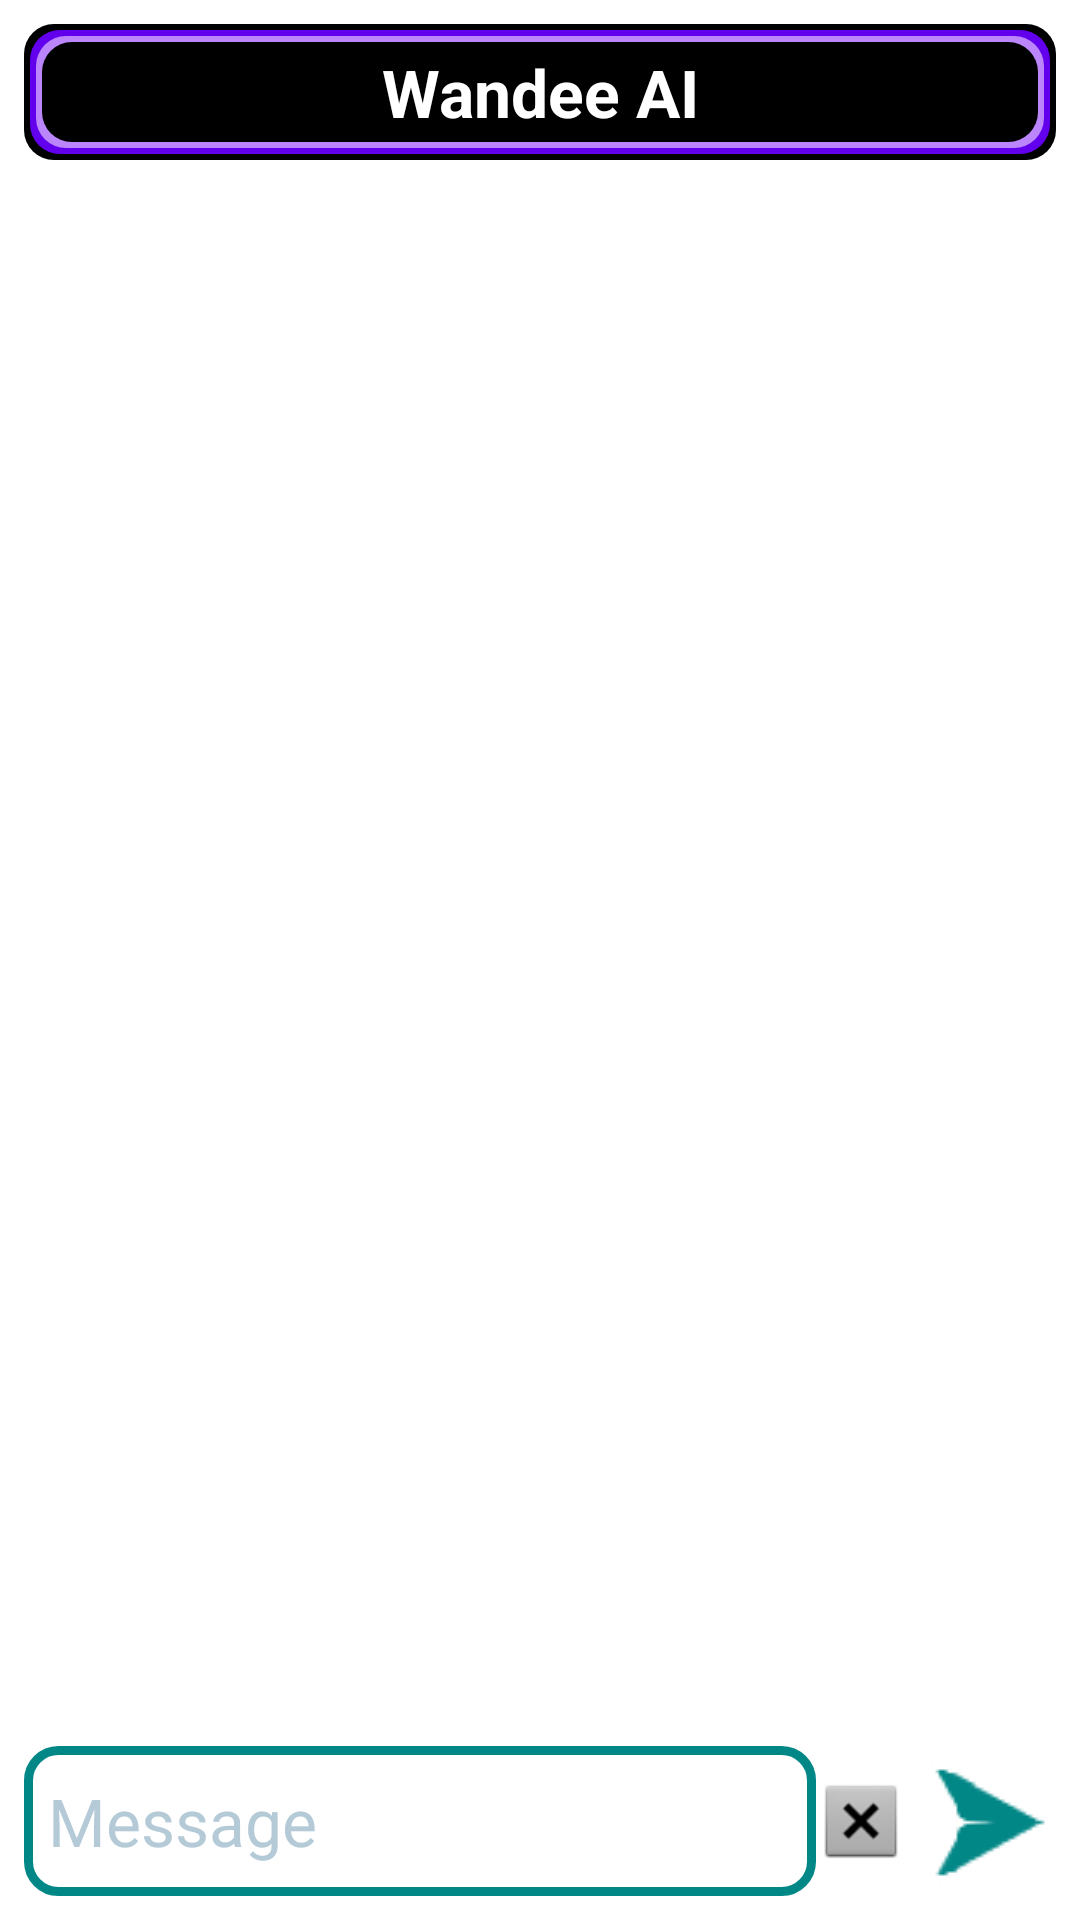

Where icons sit on this 1080*1920 app screen, as box(x1, y1, x2, y2):
Clear: box(825, 1786, 897, 1858)
Submit: box(935, 1769, 1045, 1876)
